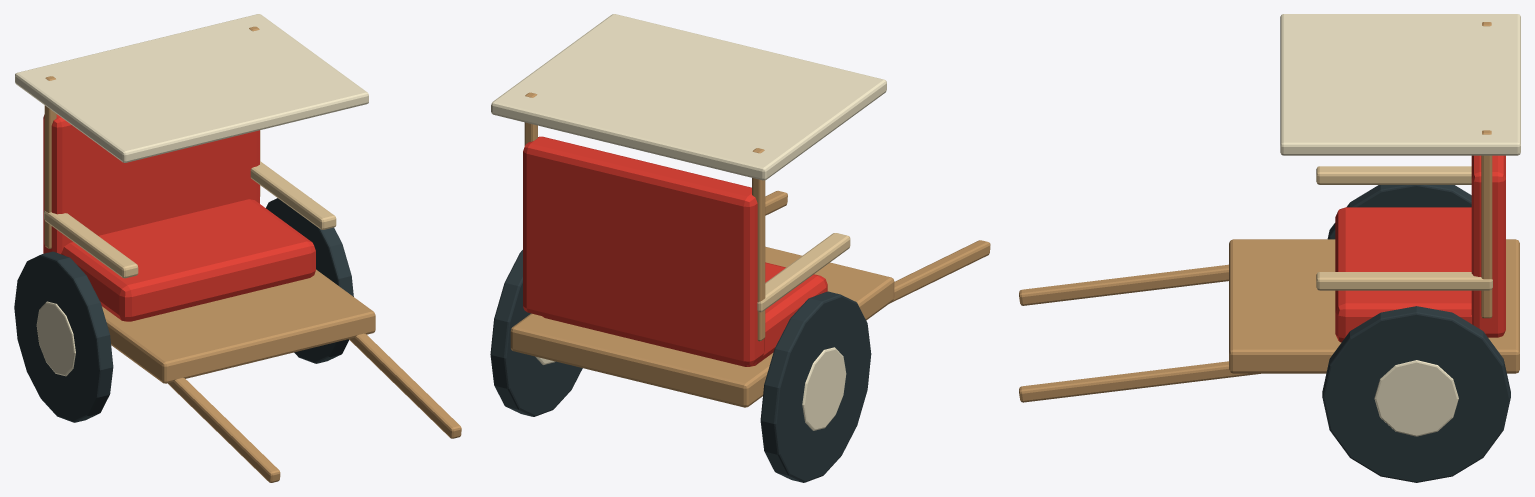
File: S094_rickshaw_cart.glb
3 renders of one model, left to right at view 1: azimuth 30°, elevation 25°; view 2: azimuth 150°, elevation 25°; view 3: azimuth 270°, elevation 25°, orthographic. The views are drawn at different scales.
Parts seen in each view (by area): view 1: rickshaw_canopy, rickshaw_seat, rickshaw_frame, rickshaw_back, rickshaw_wheel_tire, rickshaw_wheel_tire.001, pull_shaft, pull_shaft.001, rickshaw_wheel_hub, rickshaw_arm, rickshaw_arm.001, canopy_pole; view 2: rickshaw_back, rickshaw_canopy, rickshaw_frame, rickshaw_wheel_tire, rickshaw_wheel_tire.001, rickshaw_wheel_hub, rickshaw_seat, rickshaw_arm, pull_shaft, canopy_pole; view 3: rickshaw_canopy, rickshaw_wheel_tire.001, rickshaw_frame, rickshaw_seat, rickshaw_wheel_hub.001, rickshaw_back, pull_shaft.001, pull_shaft, rickshaw_arm.001, rickshaw_arm, rickshaw_wheel_tire, canopy_pole.001.
Part boxes in pixels (x1=…): rickshaw_canopy: x1=15, y1=14, x2=368, y2=162; rickshaw_seat: x1=61, y1=199, x2=315, y2=321; rickshaw_frame: x1=102, y1=269, x2=375, y2=383; rickshaw_back: x1=43, y1=114, x2=259, y2=253; rickshaw_wheel_tire: x1=14, y1=251, x2=113, y2=422; rickshaw_wheel_tire.001: x1=266, y1=198, x2=353, y2=363; pull_shaft: x1=168, y1=378, x2=280, y2=482; pull_shaft.001: x1=349, y1=333, x2=461, y2=438; rickshaw_wheel_hub: x1=36, y1=301, x2=75, y2=376; rickshaw_arm: x1=44, y1=210, x2=138, y2=278; rickshaw_arm.001: x1=250, y1=161, x2=336, y2=229; canopy_pole: x1=44, y1=76, x2=56, y2=248; rickshaw_back: x1=523, y1=136, x2=764, y2=365; rickshaw_canopy: x1=491, y1=14, x2=886, y2=180; rickshaw_frame: x1=510, y1=246, x2=894, y2=407; rickshaw_wheel_tire: x1=760, y1=291, x2=871, y2=482; rickshaw_wheel_tire.001: x1=490, y1=250, x2=582, y2=416; rickshaw_wheel_hub: x1=802, y1=347, x2=846, y2=430; rickshaw_seat: x1=542, y1=262, x2=827, y2=366; rickshaw_arm: x1=757, y1=233, x2=850, y2=312; pull_shaft: x1=889, y1=240, x2=990, y2=303; canopy_pole: x1=752, y1=148, x2=765, y2=341; rickshaw_canopy: x1=1280, y1=14, x2=1520, y2=155; rickshaw_wheel_tire.001: x1=1322, y1=306, x2=1510, y2=482; rickshaw_frame: x1=1229, y1=239, x2=1519, y2=373; rickshaw_seat: x1=1335, y1=207, x2=1471, y2=342; rickshaw_wheel_hub.001: x1=1374, y1=360, x2=1458, y2=436; rickshaw_back: x1=1471, y1=155, x2=1505, y2=337; pull_shaft.001: x1=1019, y1=361, x2=1260, y2=402; pull_shaft: x1=1019, y1=264, x2=1228, y2=305; rickshaw_arm.001: x1=1316, y1=272, x2=1492, y2=290; rickshaw_arm: x1=1316, y1=166, x2=1471, y2=184; rickshaw_wheel_tire: x1=1327, y1=185, x2=1471, y2=239; canopy_pole.001: x1=1481, y1=130, x2=1492, y2=318.
Size of the model in its own units: 1.63 by 1.86 by 2.5.
